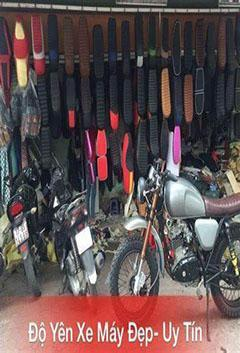motorcycle: (100, 145, 240, 327), (52, 161, 98, 306), (6, 164, 49, 291)
